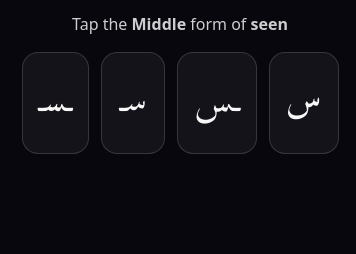
Test: LetterQuiz — pick-form flavor › options are the target letter's own forms; the asked form key scores correct
The width and height of the screenshot is (356, 254).
Expected: the text "Tap the Middle form of seen" is shown, [72,13,288,35]
Expected: the text "Middle" is shown, [132,13,186,35]
Click the button with aria-label "choice ـسـ".
click(55, 103)  # box [22,52,89,154]
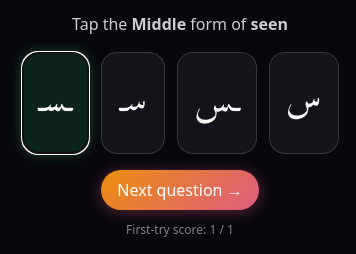
Result: the text "First-try score: 1 / 1" is shown at [126,221,234,238]
